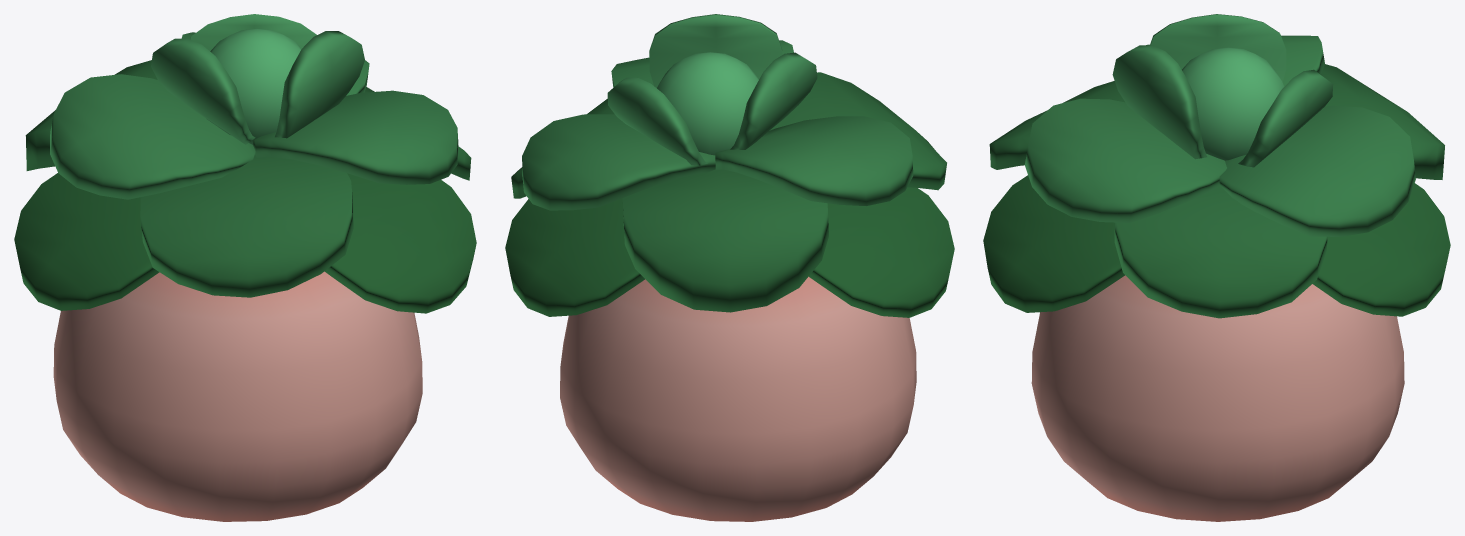
The model's file is Ploom1.fbx.
The picture shows the model from 3 angles, left to right: view 1: azimuth 30°, elevation 25°; view 2: azimuth 150°, elevation 25°; view 3: azimuth 270°, elevation 25°; orthographic projection. The views are drawn at different scales.
Visible parts, largest first — view 1: Ploom1; view 2: Ploom1; view 3: Ploom1.
Boxes of the visible parts, x1,y1,x2,y2 form: Ploom1: [14, 14, 476, 521]; Ploom1: [505, 14, 954, 521]; Ploom1: [983, 14, 1450, 521].
Bounding box in the file's own units: 274 × 286 × 264.
